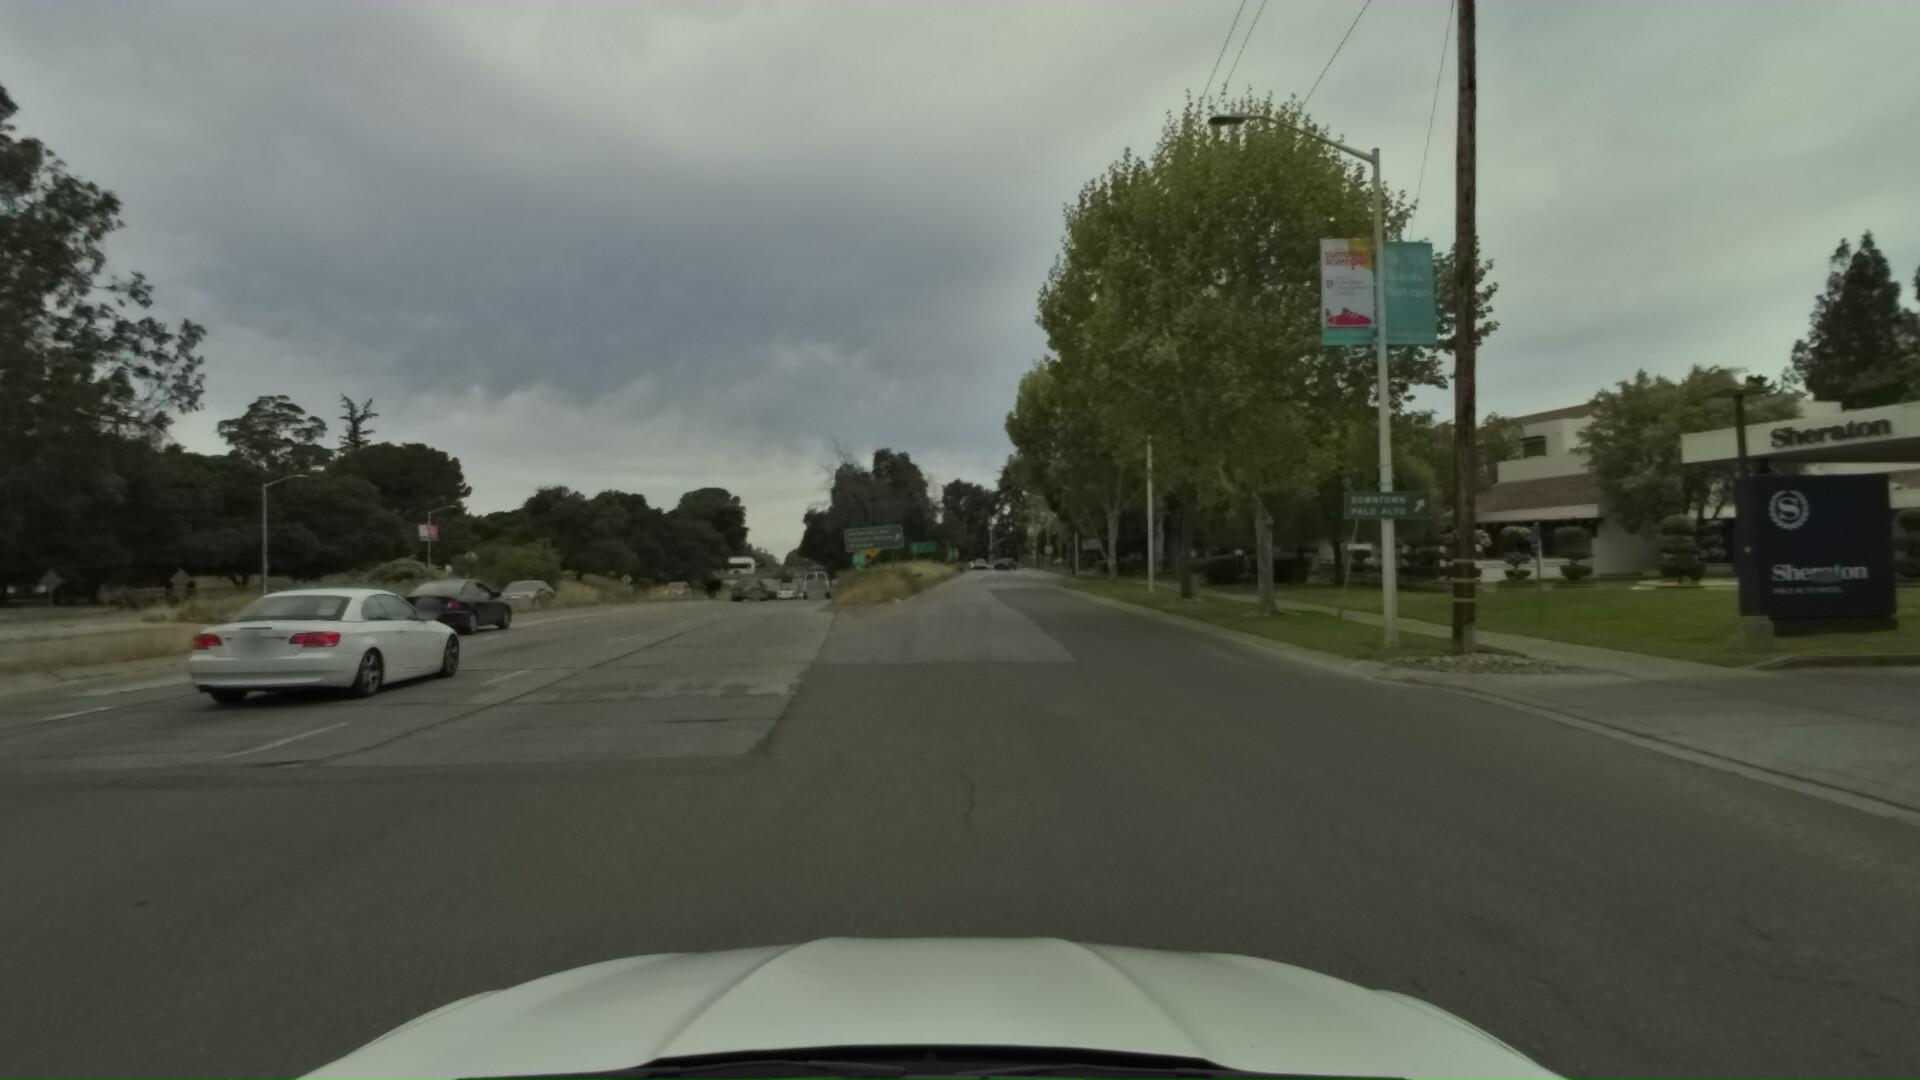car: (171, 580, 485, 721), (385, 574, 520, 644), (483, 574, 555, 615), (731, 574, 767, 603)
truck: (799, 563, 833, 597)
